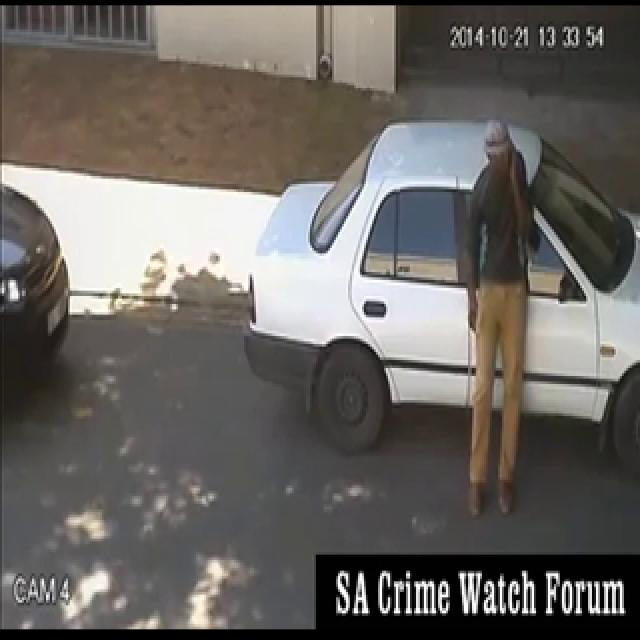stealing: (271, 0, 604, 531)
